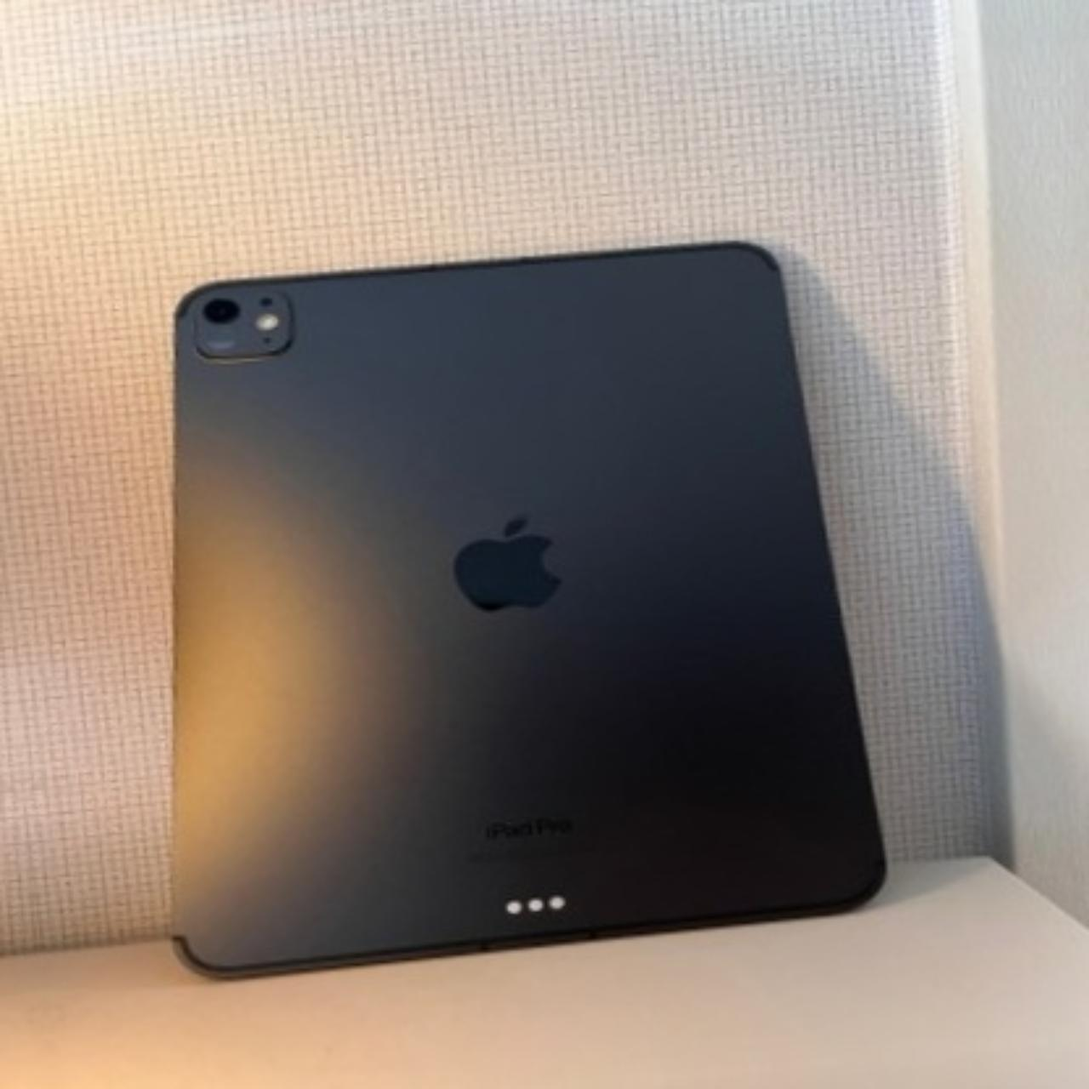Tablet_PC: (84, 207, 913, 989)
